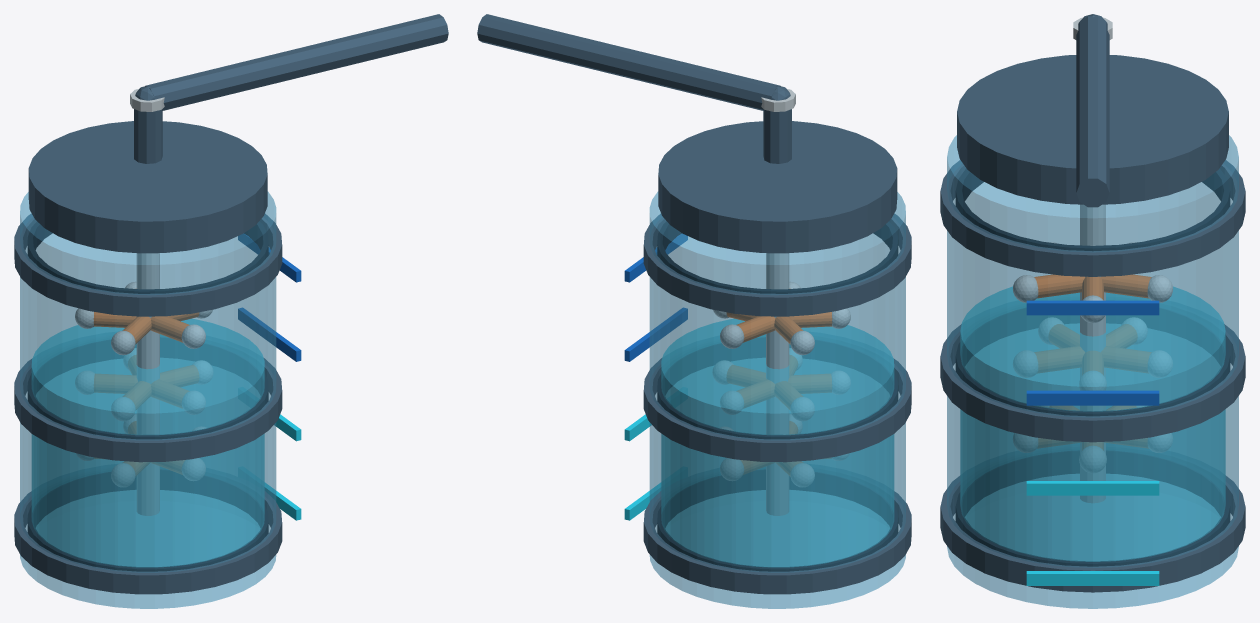
File: 16_L73_AbrasiveSlurryMixingTank.fbx
The picture shows the model from 3 angles, left to right: view 1: azimuth 30°, elevation 25°; view 2: azimuth 150°, elevation 25°; view 3: azimuth 270°, elevation 25°; orthographic projection. The views are drawn at different scales.
Parts seen in each view (by area): view 1: AbrasiveSlurryMixingTank, AbrasiveSlurryMixingTank_Part_0009, AbrasiveSlurryMixingTank_Part_0034, AbrasiveSlurryMixingTank_Part_0043, AbrasiveSlurryMixingTank_Part_0028, AbrasiveSlurryMixingTank_Part_0025; view 2: AbrasiveSlurryMixingTank, AbrasiveSlurryMixingTank_Part_0009, AbrasiveSlurryMixingTank_Part_0031, AbrasiveSlurryMixingTank_Part_0052, AbrasiveSlurryMixingTank_Part_0037, AbrasiveSlurryMixingTank_Part_0025; view 3: AbrasiveSlurryMixingTank, AbrasiveSlurryMixingTank_Part_0009, AbrasiveSlurryMixingTank_Part_0028, AbrasiveSlurryMixingTank_Part_0037, AbrasiveSlurryMixingTank_Part_0043, AbrasiveSlurryMixingTank_Part_0052, AbrasiveSlurryMixingTank_Part_0012, AbrasiveSlurryMixingTank_Part_0045, AbrasiveSlurryMixingTank_Part_0054, AbrasiveSlurryMixingTank_Part_0030, AbrasiveSlurryMixingTank_Part_0039, AbrasiveSlurryMixingTank_Part_0031 (+4 smaller).
Boxes of the visible parts, x1,y1,x2,y2 form: AbrasiveSlurryMixingTank: (14,14,448,608); AbrasiveSlurryMixingTank_Part_0009: (136,253,159,515); AbrasiveSlurryMixingTank_Part_0034: (94,374,137,393); AbrasiveSlurryMixingTank_Part_0043: (150,316,188,342); AbrasiveSlurryMixingTank_Part_0028: (151,379,188,408); AbrasiveSlurryMixingTank_Part_0025: (160,365,199,386); AbrasiveSlurryMixingTank: (477,14,911,608); AbrasiveSlurryMixingTank_Part_0009: (766,253,789,515); AbrasiveSlurryMixingTank_Part_0031: (788,374,831,393); AbrasiveSlurryMixingTank_Part_0052: (737,316,775,342); AbrasiveSlurryMixingTank_Part_0037: (737,379,774,408); AbrasiveSlurryMixingTank_Part_0025: (726,365,765,386); AbrasiveSlurryMixingTank: (940,14,1245,608); AbrasiveSlurryMixingTank_Part_0009: (1080,204,1105,502); AbrasiveSlurryMixingTank_Part_0028: (1034,346,1084,372); AbrasiveSlurryMixingTank_Part_0037: (1101,346,1151,372); AbrasiveSlurryMixingTank_Part_0043: (1034,274,1084,298); AbrasiveSlurryMixingTank_Part_0052: (1101,274,1151,298); AbrasiveSlurryMixingTank_Part_0012: (1079,446,1106,472); AbrasiveSlurryMixingTank_Part_0045: (1013,275,1038,302); AbrasiveSlurryMixingTank_Part_0054: (1147,275,1172,302); AbrasiveSlurryMixingTank_Part_0030: (1013,350,1037,377); AbrasiveSlurryMixingTank_Part_0039: (1148,350,1172,377); AbrasiveSlurryMixingTank_Part_0031: (1048,324,1079,347).
Size of the model in its own units: 162 by 177 by 92.
